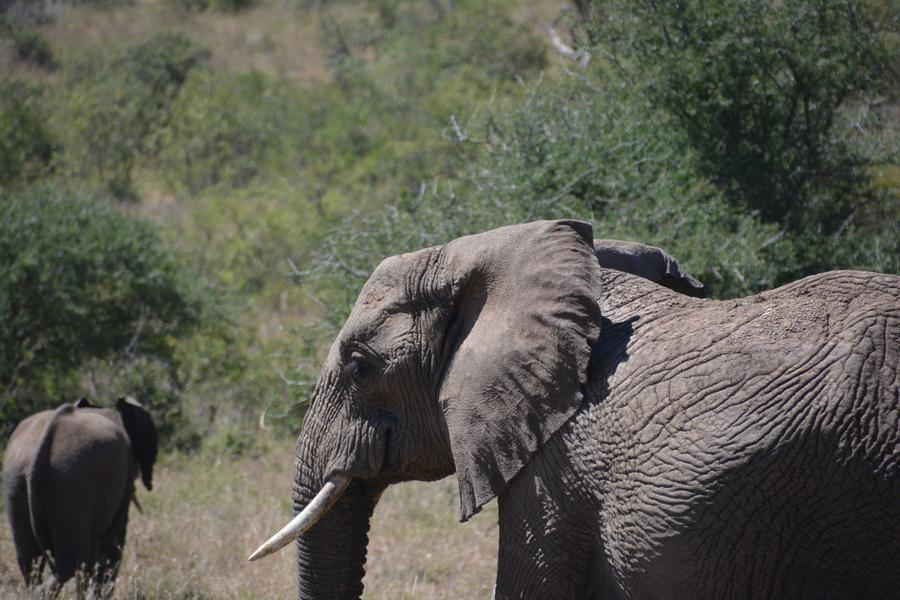elephant: (331, 235, 894, 576), (13, 390, 154, 567)
